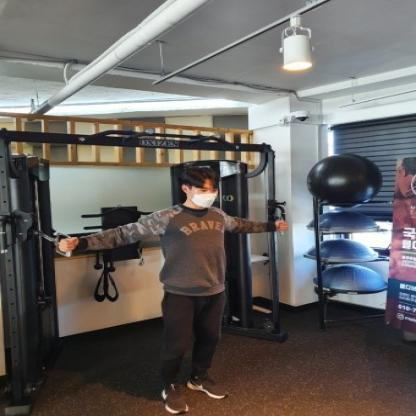chest fly machine: (0, 99, 317, 416)
